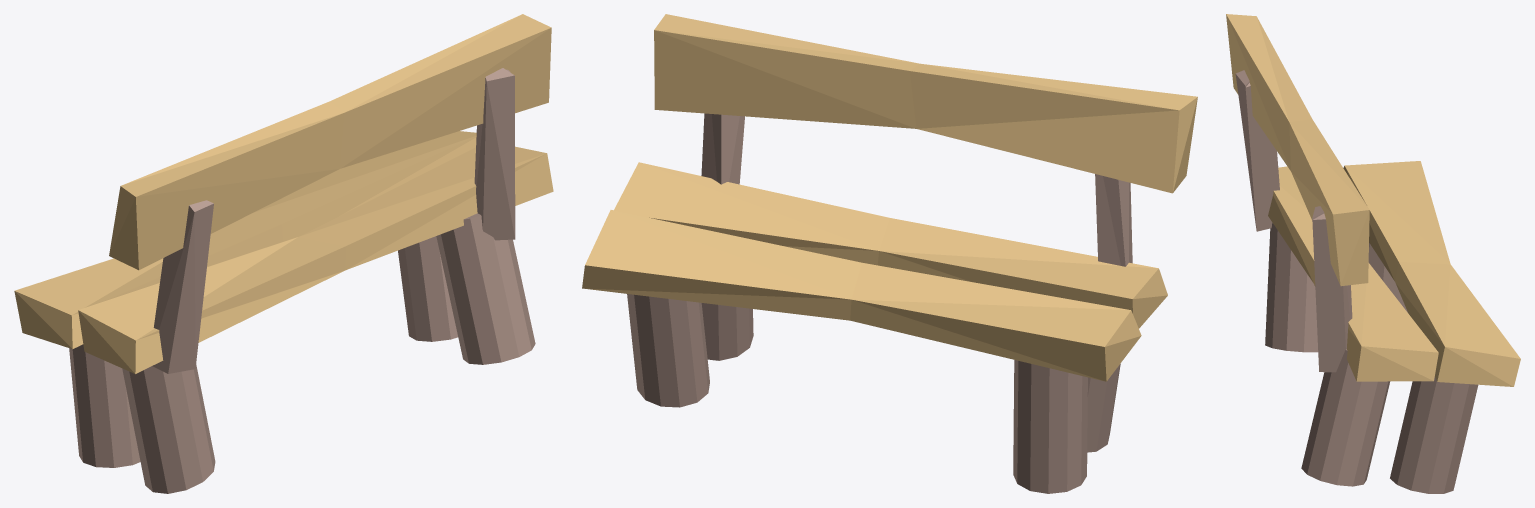
Rendered from benchtall.glb.
3 views of the same model, side by side, from view 1: azimuth 30°, elevation 25°; view 2: azimuth 150°, elevation 25°; view 3: azimuth 270°, elevation 25° (orthographic). The views are drawn at different scales.
Visible parts, largest first — view 1: bench-plank-three, bench-plank-one, bench-plank-two, group1064794239, group1480869683, group1857767654, group1698771934, group361907561, group613786310; view 2: bench-plank-three, bench-plank-two, bench-plank-one, group1698771934, group613786310, group1857767654, group361907561, group1064794239, group1480869683; view 3: bench-plank-two, bench-plank-three, bench-plank-one, group1064794239, group613786310, group1480869683, group361907561, group1857767654, group1698771934.
Part boxes in pixels (x1,y1,x2,y2): bench-plank-three: [109, 14, 551, 270]; bench-plank-one: [78, 146, 553, 373]; bench-plank-two: [14, 131, 476, 349]; group1064794239: [436, 213, 535, 364]; group1480869683: [122, 364, 215, 493]; group1857767654: [152, 200, 213, 373]; group1698771934: [69, 344, 140, 467]; group361907561: [474, 68, 515, 240]; group613786310: [398, 236, 457, 341]; bench-plank-three: [654, 14, 1197, 193]; bench-plank-two: [582, 210, 1141, 381]; bench-plank-one: [614, 162, 1167, 328]; group1698771934: [1013, 360, 1087, 493]; group613786310: [627, 294, 709, 407]; group1857767654: [1095, 174, 1132, 266]; group361907561: [701, 113, 744, 184]; group1064794239: [701, 303, 753, 360]; group1480869683: [1087, 364, 1120, 452]; bench-plank-two: [1343, 161, 1520, 386]; bench-plank-three: [1226, 14, 1369, 286]; bench-plank-one: [1268, 166, 1438, 381]; group1064794239: [1301, 349, 1390, 486]; group613786310: [1390, 376, 1478, 493]; group1480869683: [1265, 223, 1318, 352]; group361907561: [1312, 206, 1352, 372]; group1857767654: [1235, 70, 1279, 231]; group1698771934: [1368, 242, 1407, 312].
Bounding box in the file's own units: 0.9418 × 0.6219 × 0.5271.
